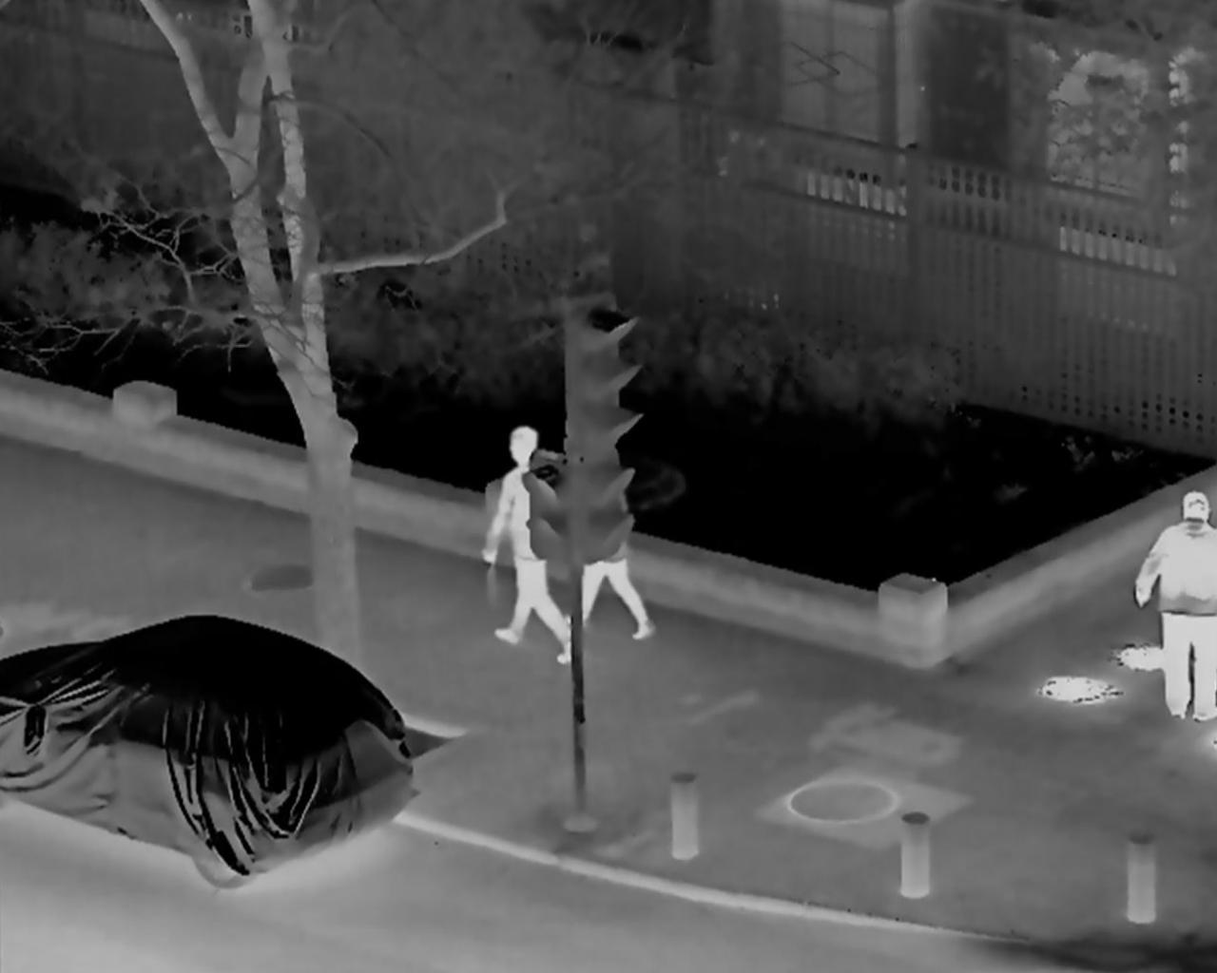person: (483, 425, 577, 666), (1132, 491, 1217, 723), (560, 454, 663, 643)
